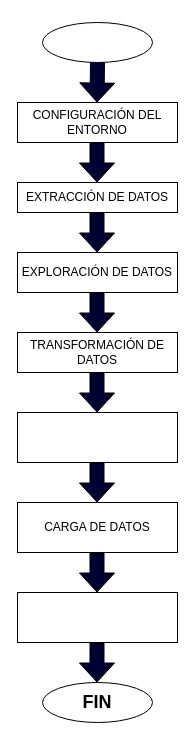
Image size: 195x745. Some labels were removed from this diagram. Here are the shapes that lost their labels. From the top down, the centre of each, then its label:
At pixel 97 42: "INICIO".
At pixel 97 437: "ANÁLISIS DE COMPORTAMIENTO DEL USUARIO".
At pixel 97 617: "VISUALIZACION DE RESULTADOS".
